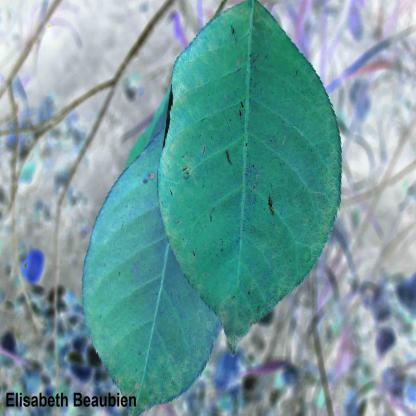cherry leaf: (165, 3, 345, 334), (89, 114, 216, 416)
